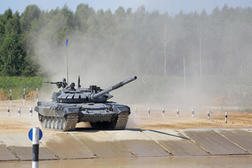t72: (36, 79, 142, 130)
